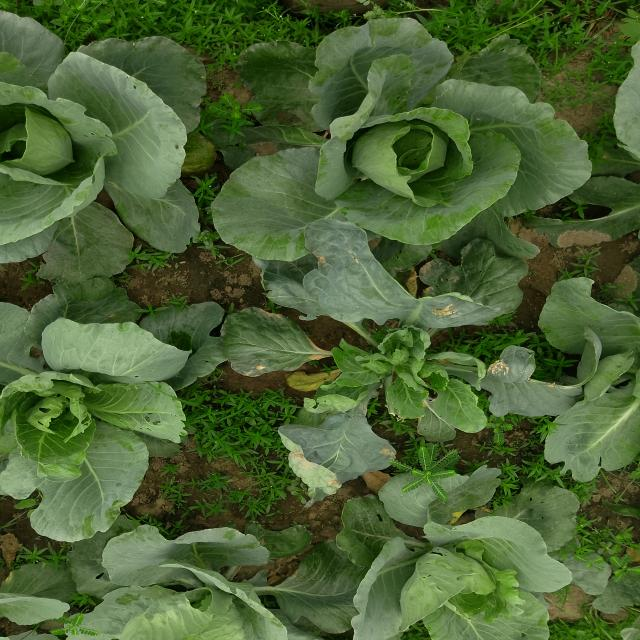Cabbage: (210, 8, 588, 280), (244, 266, 529, 485), (0, 283, 236, 537), (0, 0, 206, 278), (43, 504, 361, 640), (343, 492, 625, 640), (508, 288, 640, 492), (597, 22, 640, 266)
